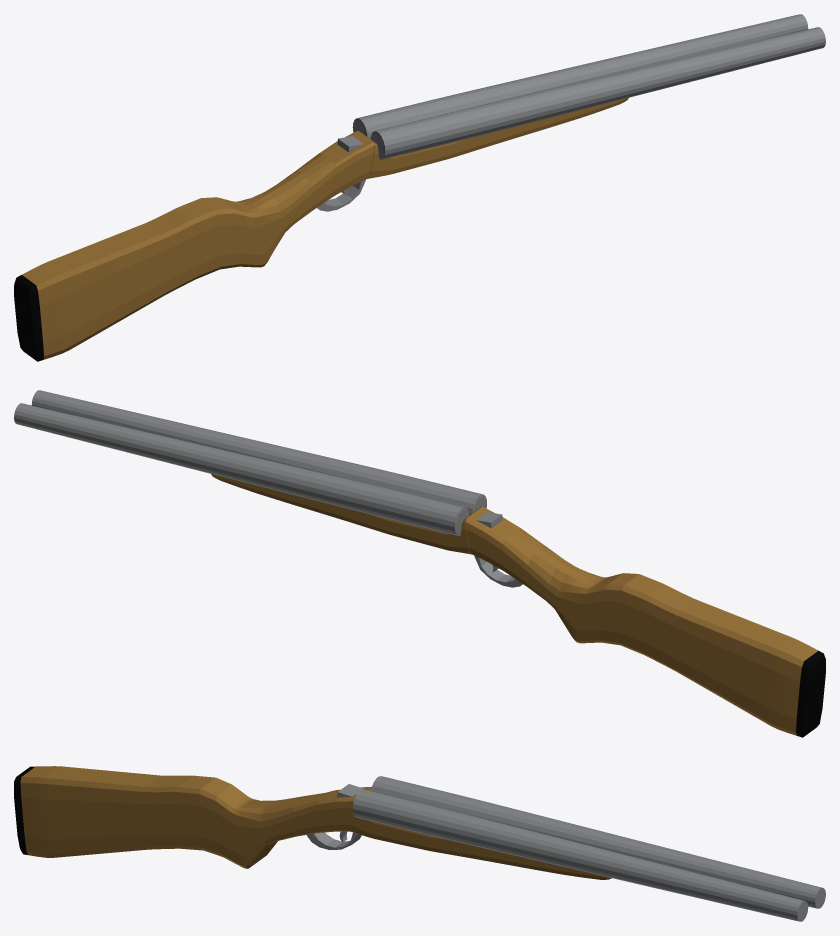
The model's file is doubleShot.fbx.
3 views of the same model, one above another, from view 1: azimuth 30°, elevation 25°; view 2: azimuth 150°, elevation 25°; view 3: azimuth 330°, elevation 25° (orthographic).
Visible parts, largest first — view 1: Handle, Front; view 2: Handle, Front; view 3: Handle, Front.
Part boxes in pixels (x1,y1,x2,y2): Handle: (14, 131, 374, 361); Front: (352, 14, 825, 178); Handle: (465, 506, 825, 737); Front: (14, 390, 486, 554); Handle: (14, 766, 371, 868); Front: (350, 776, 825, 921).
Bounding box in the file's own units: 966 × 173 × 68.71.
Materials: 3 (3 with a texture image).
